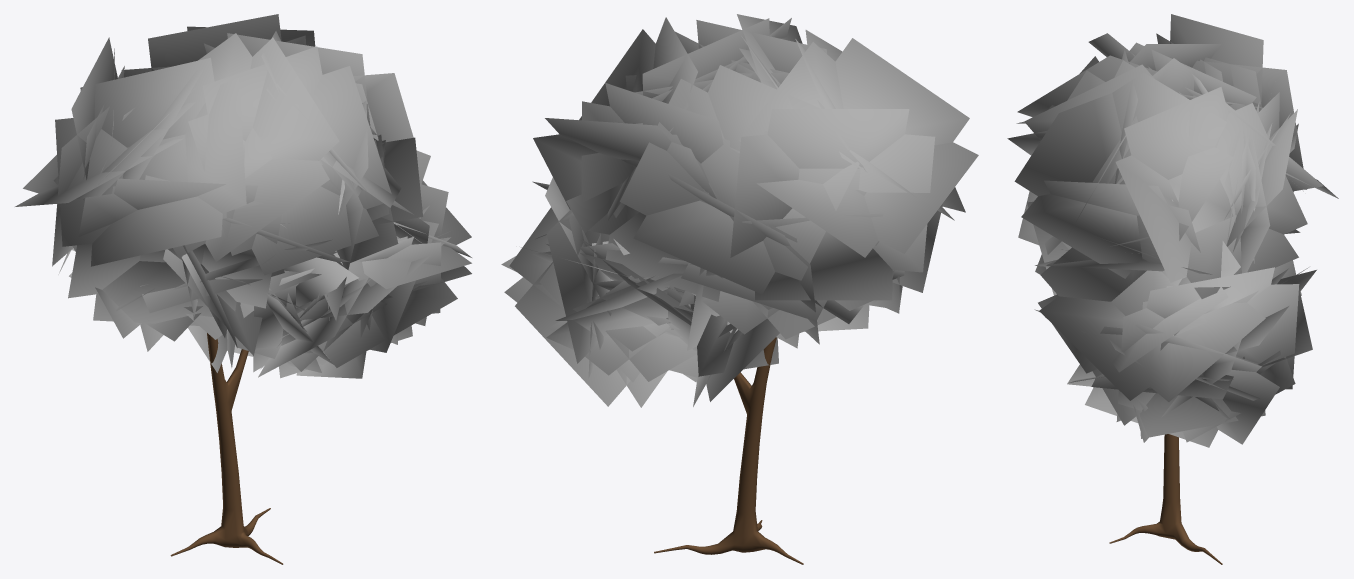
The model's file is smallJungleTree_low.fbx.
3 views of the same model, side by side, from view 1: azimuth 30°, elevation 25°; view 2: azimuth 150°, elevation 25°; view 3: azimuth 270°, elevation 25° (orthographic). The views are drawn at different scales.
Visible parts, largest first — view 1: smallJungleTree; view 2: smallJungleTree; view 3: smallJungleTree.
Part boxes in pixels (x1,y1,x2,y2): smallJungleTree: (15, 14, 471, 564); smallJungleTree: (501, 14, 978, 564); smallJungleTree: (1007, 14, 1338, 564).
Size of the model in its own units: 764 by 906 by 562.
